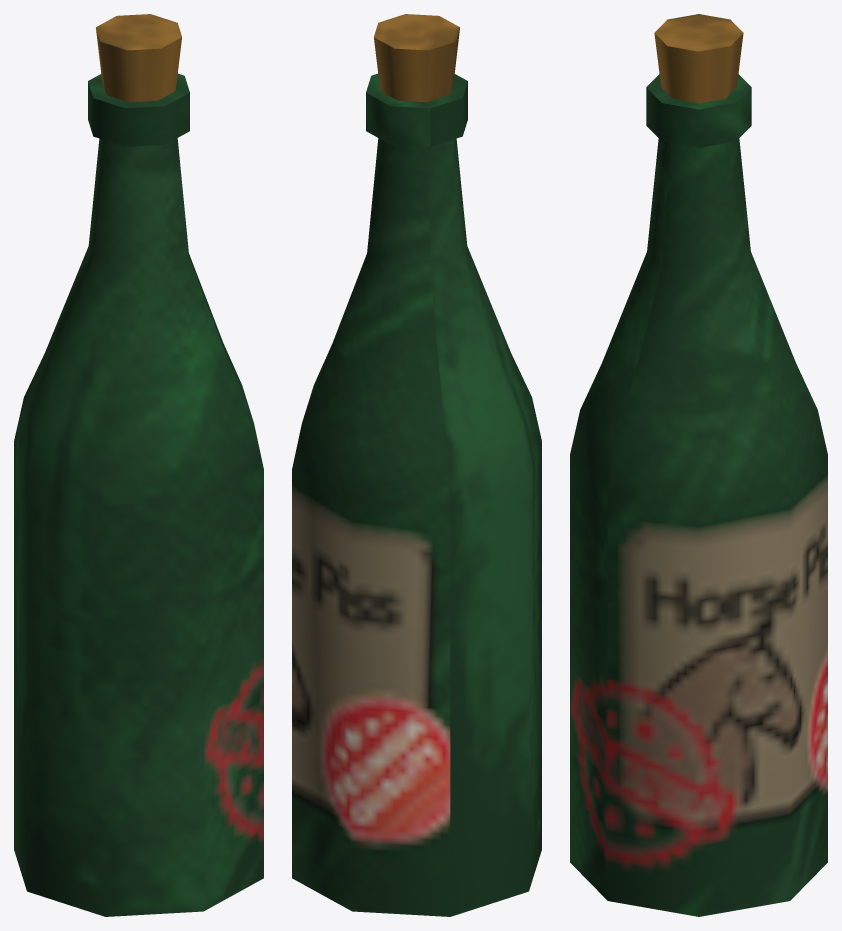
The model's file is HorsePiss.fbx.
3 renders of one model, left to right at view 1: azimuth 30°, elevation 25°; view 2: azimuth 150°, elevation 25°; view 3: azimuth 270°, elevation 25°, orthographic.
Visible parts, largest first — view 1: Cylinder; view 2: Cylinder; view 3: Cylinder.
Part boxes in pixels (<box>): Cylinder: <box>14,14,263,916</box>; Cylinder: <box>292,14,541,916</box>; Cylinder: <box>570,14,827,916</box>.
Bounding box in the file's own units: 8.57 × 30.43 × 8.57.
1 material, 1 textured.
